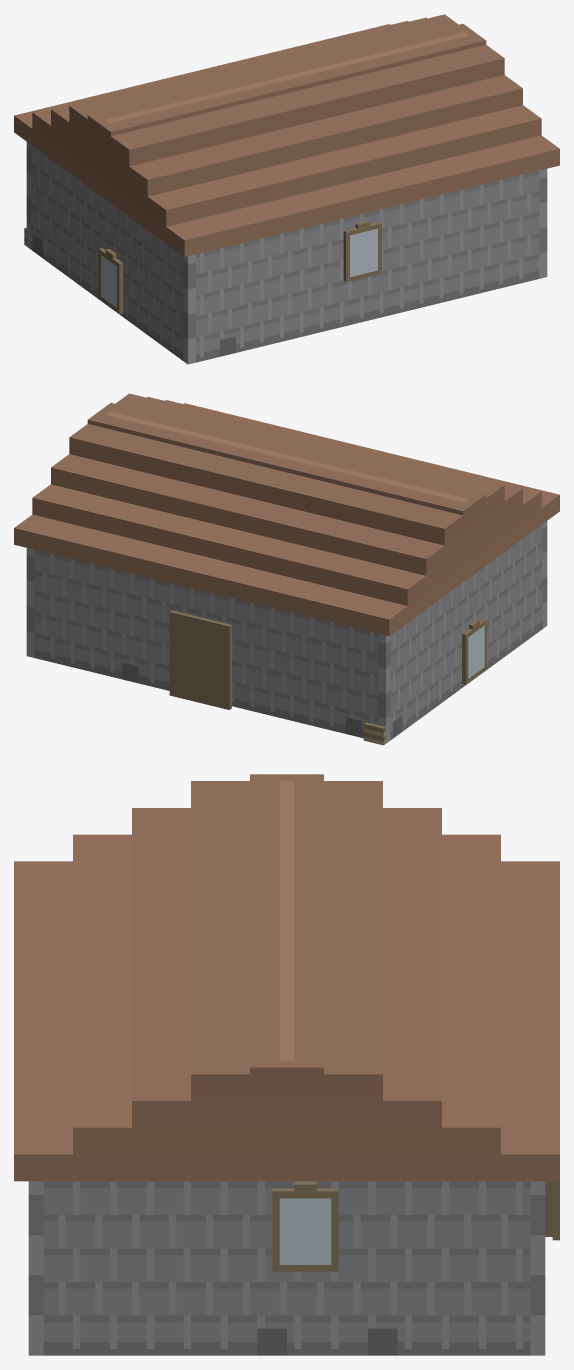
The model's file is taller_asedio_03.glb.
3 views of the same model, one above another, from view 1: azimuth 30°, elevation 25°; view 2: azimuth 150°, elevation 25°; view 3: azimuth 270°, elevation 25° (orthographic). The views are drawn at different scales.
Visible parts, largest first — view 1: taller_asedio_03; view 2: taller_asedio_03; view 3: taller_asedio_03.
Boxes of the visible parts, x1,y1,x2,y2 form: taller_asedio_03: (14,14,559,364); taller_asedio_03: (14,393,559,745); taller_asedio_03: (14,774,559,1355).
Size of the model in its own units: 9.4 by 4.4 by 7.4.
